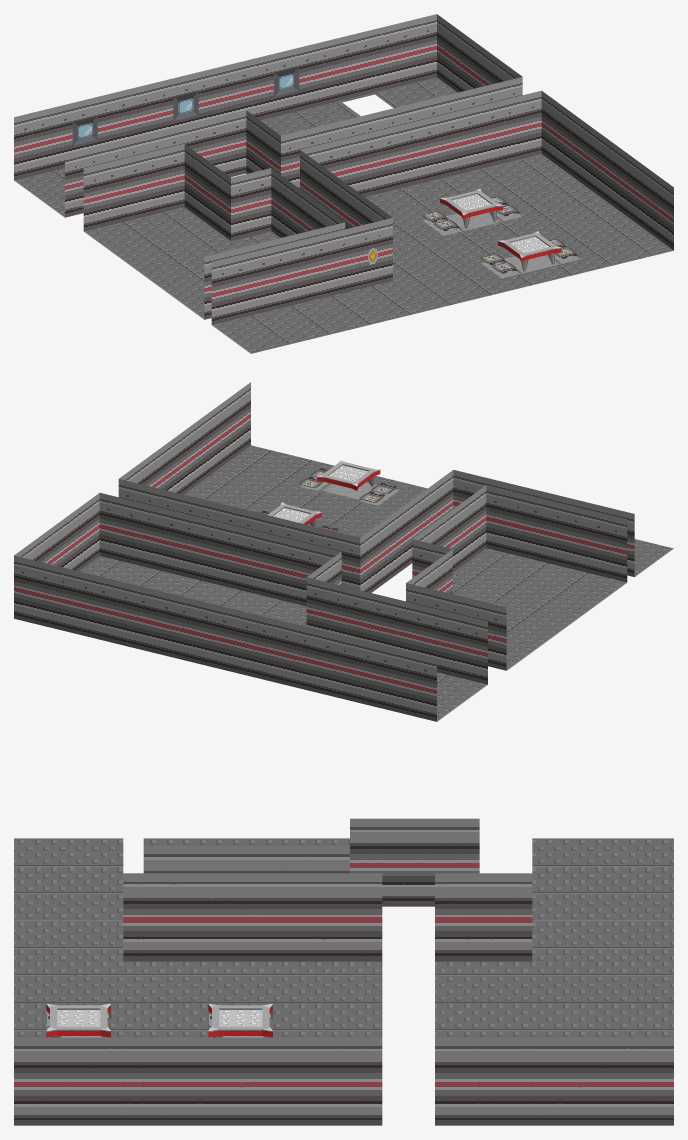
File: GALHQ7-3.obj
3 renders of one model, top to bottom at view 1: azimuth 30°, elevation 25°; view 2: azimuth 150°, elevation 25°; view 3: azimuth 270°, elevation 25°, orthographic. The views are drawn at different scales.
Parts seen in each view (by area): view 1: m_dun2603_01_00c; view 2: m_dun2603_01_00c; view 3: m_dun2603_01_00c.
Boxes of the visible parts, x1=… form: m_dun2603_01_00c: x1=14, y1=14, x2=673, y2=353; m_dun2603_01_00c: x1=14, y1=382, x2=673, y2=721; m_dun2603_01_00c: x1=14, y1=818, x2=673, y2=1125.
Size of the model in its own units: 336 by 48 by 326.
